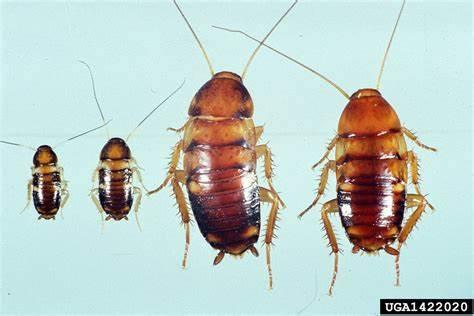cockroach: (170, 67, 277, 264), (319, 84, 420, 262), (90, 135, 144, 224), (28, 144, 66, 224)
